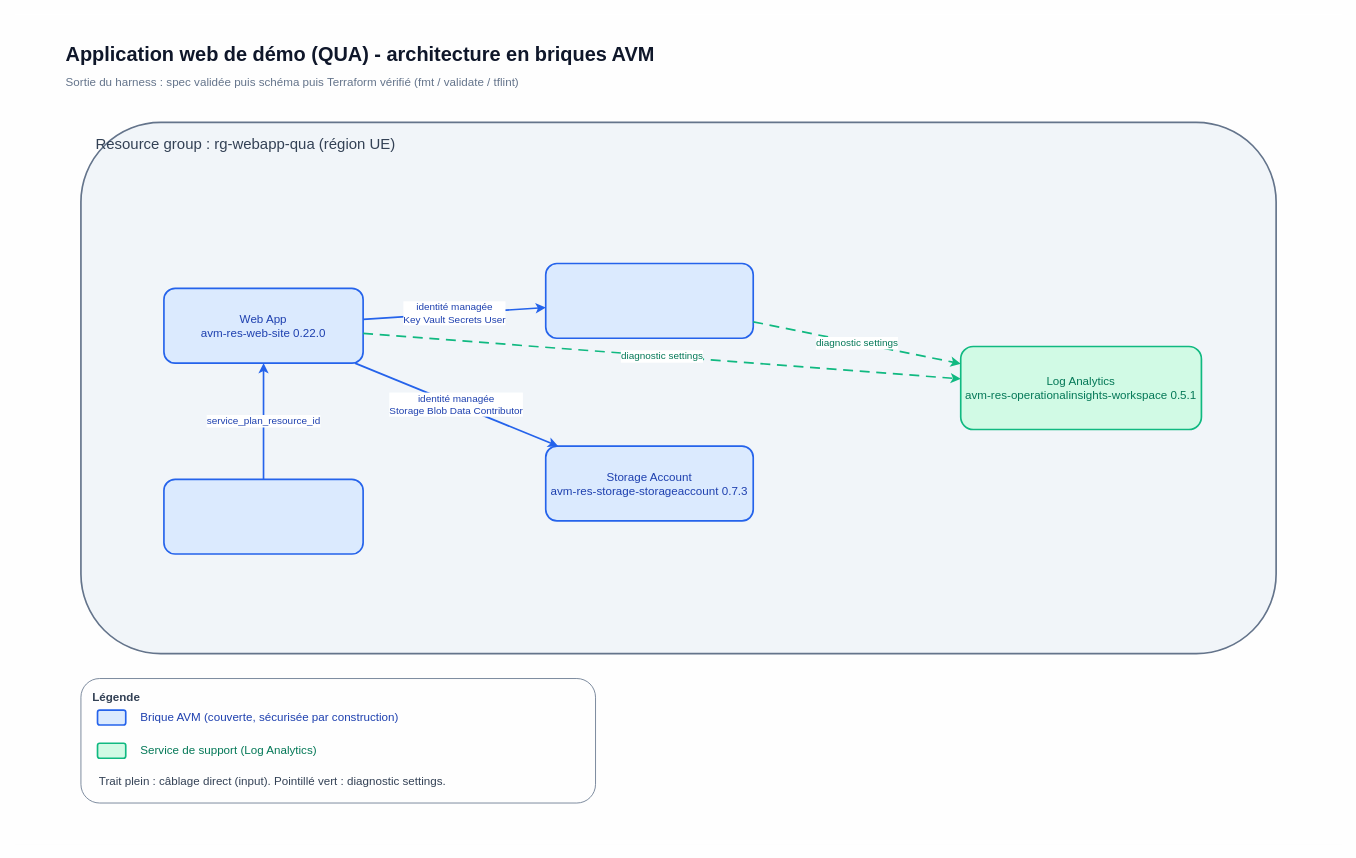
This 1356x858 diagram has some shape labels left out. The centre of each missing label's shape, as x and y in pixels:
App Service Plan avm-res-web-serverfarm 2.0.7: the point at 263,516
Key Vault avm-res-keyvault-vault 0.10.2: the point at 649,300
